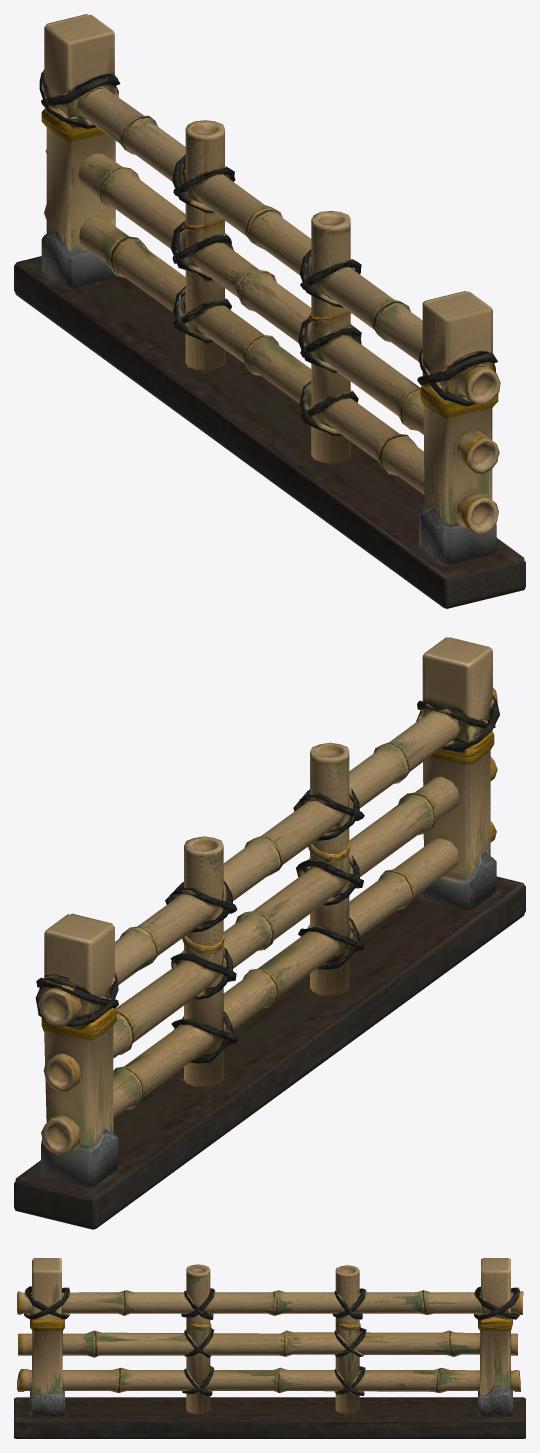
The model's file is tripo_convert_921ea008-77b1-4a8d-9d1a-e9be28998e12.fbx.
The picture shows the model from 3 angles, top to bottom: view 1: azimuth 30°, elevation 25°; view 2: azimuth 150°, elevation 25°; view 3: azimuth 270°, elevation 25°; orthographic projection. The views are drawn at different scales.
Visible parts, largest first — view 1: tripo_node_921ea008; view 2: tripo_node_921ea008; view 3: tripo_node_921ea008.
Boxes of the visible parts, <box> form: tripo_node_921ea008: <box>14,14,525,608</box>; tripo_node_921ea008: <box>14,637,525,1229</box>; tripo_node_921ea008: <box>14,1258,525,1438</box>.
Bounding box in the file's own units: 0.1074 × 0.3496 × 0.998.
Materials: 1 (1 with a texture image).
